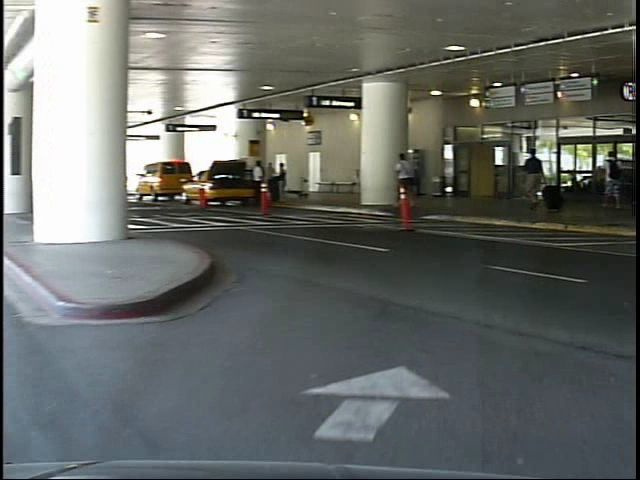person: (524, 142, 552, 215), (396, 148, 422, 214)
